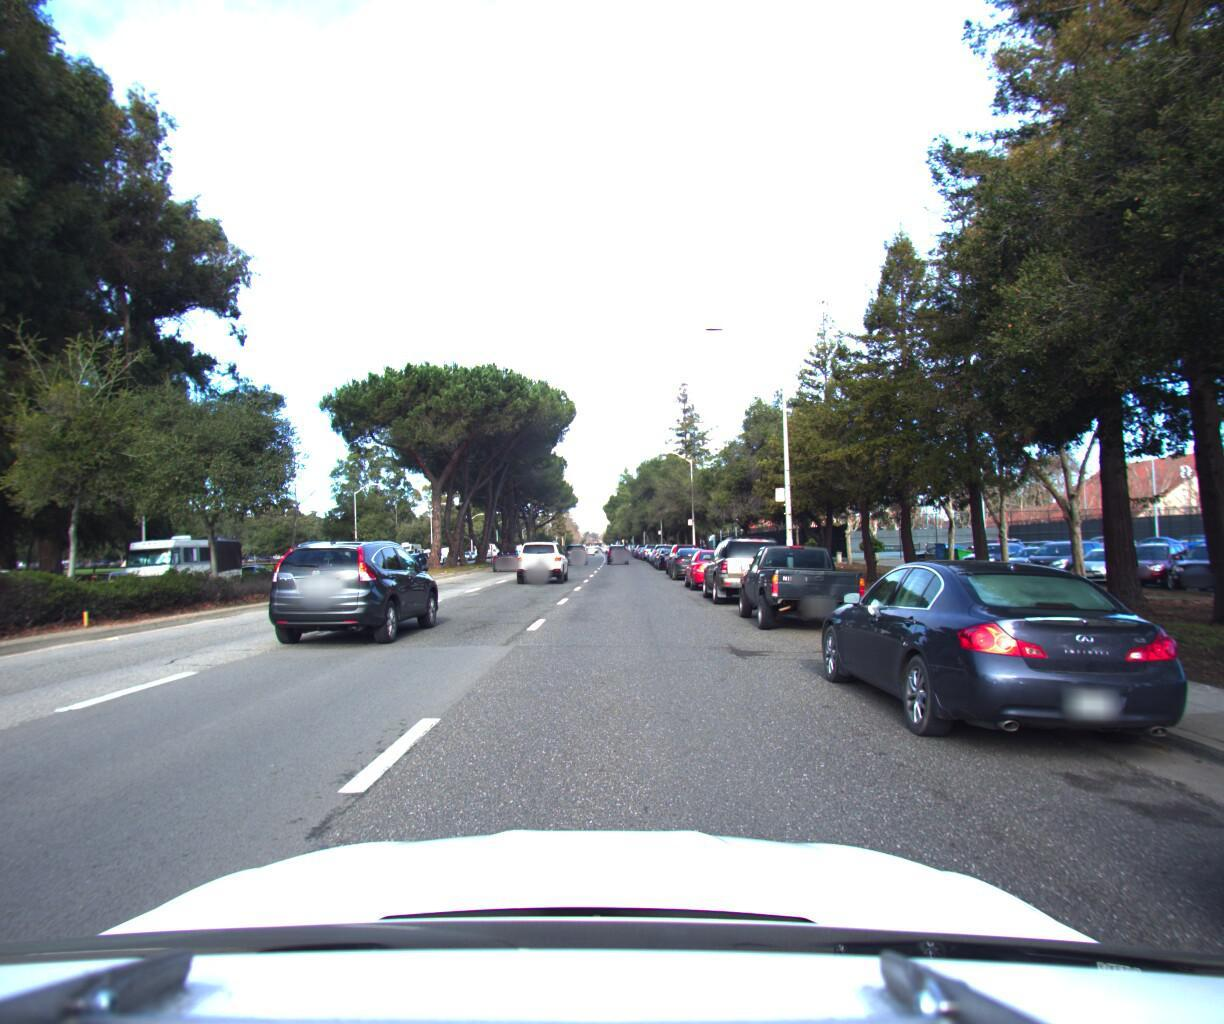car: (800, 539, 1224, 781), (259, 527, 452, 655), (727, 529, 874, 637), (700, 521, 797, 603), (681, 536, 751, 589), (513, 531, 572, 579), (81, 559, 159, 595), (668, 535, 712, 575), (486, 542, 524, 567), (651, 533, 681, 559), (560, 532, 588, 556), (605, 535, 628, 556)
other_vehicle: (114, 524, 254, 591), (287, 535, 353, 571)
